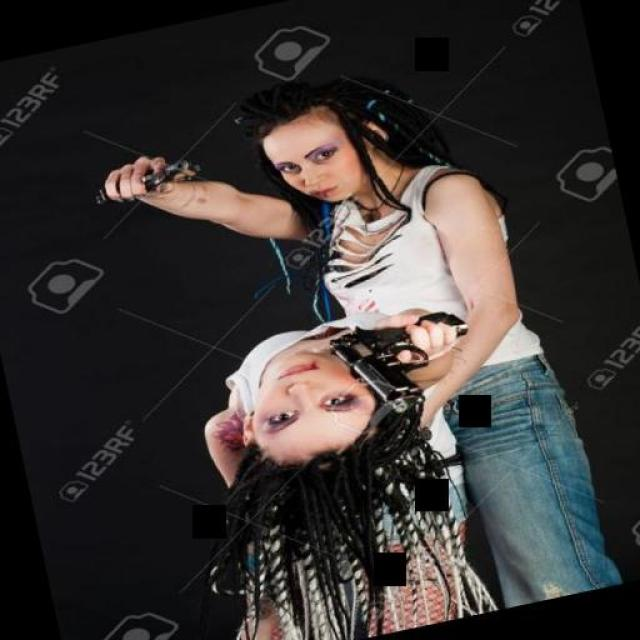gun: (325, 296, 475, 432), (101, 148, 214, 202)
